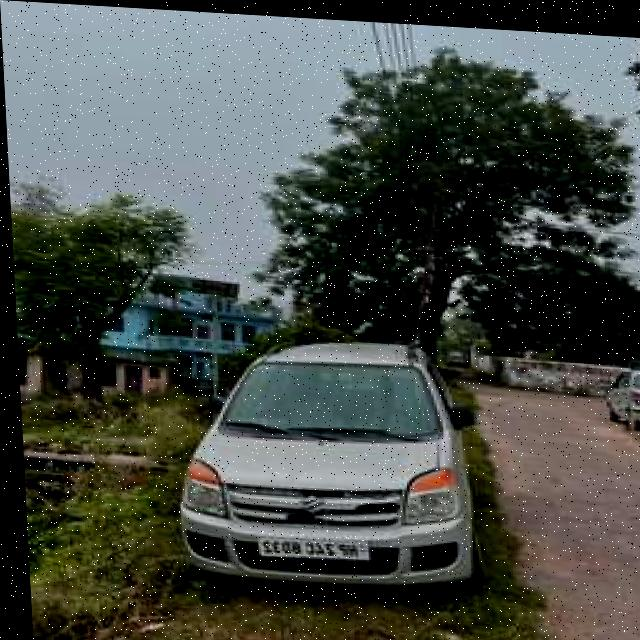plate: (249, 528, 368, 561)
